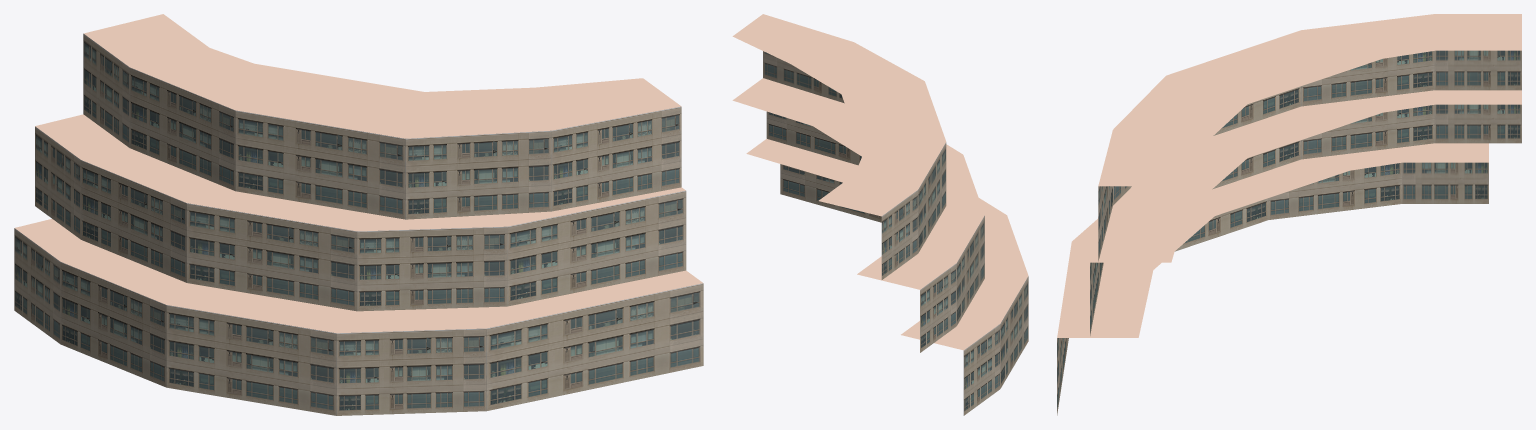
The model's file is Background_Asset_002.fbx.
3 views of the same model, side by side, from view 1: azimuth 30°, elevation 25°; view 2: azimuth 150°, elevation 25°; view 3: azimuth 270°, elevation 25° (orthographic). The views are drawn at different scales.
Visible parts, largest first — view 1: Background_Asset_002; view 2: Background_Asset_002; view 3: Background_Asset_002.
Part boxes in pixels (left/top/right/bottom): Background_Asset_002: left=14, top=14, right=703, bottom=415; Background_Asset_002: left=732, top=14, right=1028, bottom=415; Background_Asset_002: left=1057, top=14, right=1521, bottom=415.
Size of the model in its own units: 1702 by 860 by 1576.
